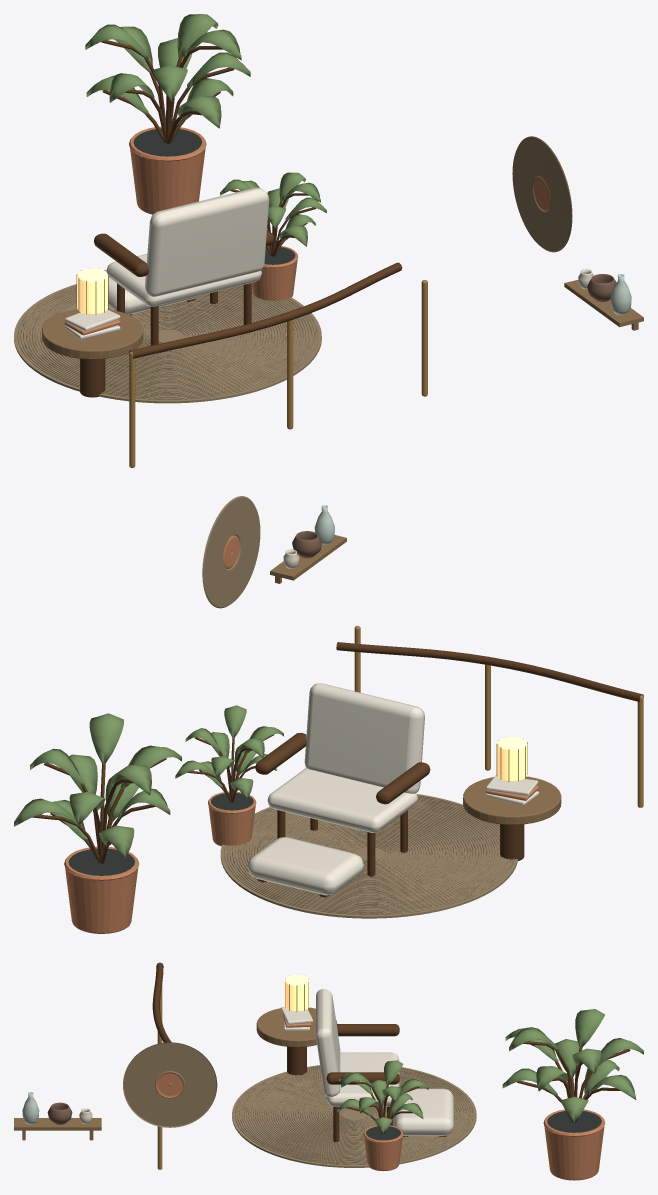
Rendered from room-lounge.glb.
3 views of the same model, one above another, from view 1: azimuth 30°, elevation 25°; view 2: azimuth 150°, elevation 25°; view 3: azimuth 270°, elevation 25° (orthographic). The views are drawn at different scales.
Visible parts, largest first — view 1: lounge__woven jute, lounge__linen, lounge__olive leaf, lounge__honey ash, lounge__terracotta, lounge_decor woven jute, lounge__pale oak, lounge__brushed brass, lounge__charcoal, lounge__warm paper lantern, lounge_decor pale oak, lounge_decor celadon glaze (+1 smaller); view 2: lounge__linen, lounge__woven jute, lounge__olive leaf, lounge__honey ash, lounge__terracotta, lounge_decor woven jute, lounge__pale oak, lounge__charcoal, lounge__brushed brass, lounge__warm paper lantern, lounge_decor pale oak, lounge_decor tenmoku glaze; view 3: lounge__woven jute, lounge__olive leaf, lounge__linen, lounge_decor woven jute, lounge__honey ash, lounge__terracotta, lounge__pale oak, lounge__charcoal, lounge_decor pale oak, lounge__warm paper lantern, lounge_decor terracotta, lounge_decor tenmoku glaze (+2 smaller).
Part boxes in pixels (left/top/right/bottom): lounge__woven jute: left=14, top=284, right=321, bottom=403; lounge__linen: left=64, top=187, right=269, bottom=339; lounge__olive leaf: left=85, top=14, right=326, bottom=246; lounge__honey ash: left=80, top=40, right=402, bottom=397; lounge__terracotta: left=64, top=126, right=298, bottom=335; lounge_decor woven jute: left=512, top=136, right=572, bottom=252; lounge__pale oak: left=42, top=268, right=143, bottom=359; lounge__brushed brass: left=129, top=280, right=427, bottom=467; lounge__charcoal: left=133, top=128, right=295, bottom=264; lounge__warm paper lantern: left=77, top=268, right=107, bottom=314; lounge_decor pale oak: left=564, top=279, right=643, bottom=330; lounge_decor celadon glaze: left=610, top=274, right=631, bottom=315; lounge__linen: left=247, top=683, right=538, bottom=895; lounge__woven jute: left=220, top=794, right=517, bottom=918; lounge__olive leaf: left=14, top=705, right=283, bottom=857; lounge__honey ash: left=32, top=642, right=643, bottom=876; lounge__terracotta: left=64, top=785, right=538, bottom=933; lounge_decor woven jute: left=202, top=496, right=260, bottom=608; lounge__pale oak: left=463, top=740, right=561, bottom=824; lounge__charcoal: left=68, top=793, right=253, bottom=875; lounge__brushed brass: left=354, top=626, right=643, bottom=807; lounge__warm paper lantern: left=497, top=737, right=527, bottom=781; lounge_decor pale oak: left=270, top=535, right=346, bottom=583; lounge_decor tenmoku glaze: left=292, top=531, right=321, bottom=558; lounge__woven jute: left=232, top=1065, right=476, bottom=1167; lounge__olive leaf: left=337, top=1009, right=643, bottom=1133; lounge__linen: left=281, top=989, right=453, bottom=1135; lounge_decor woven jute: left=123, top=1042, right=217, bottom=1127; lounge__honey ash: left=152, top=962, right=630, bottom=1142; lounge__terracotta: left=283, top=1014, right=605, bottom=1180; lounge__pale oak: left=256, top=978, right=337, bottom=1047; lounge__charcoal: left=366, top=1111, right=601, bottom=1140; lounge_decor pale oak: left=14, top=1118, right=101, bottom=1140; lounge__warm paper lantern: left=284, top=975, right=309, bottom=1011; lounge_decor terracotta: left=156, top=1072, right=184, bottom=1097; lounge_decor tenmoku glaze: left=47, top=1102, right=72, bottom=1124.
Size of the model in its own units: 3.46 by 1.72 by 5.61.
